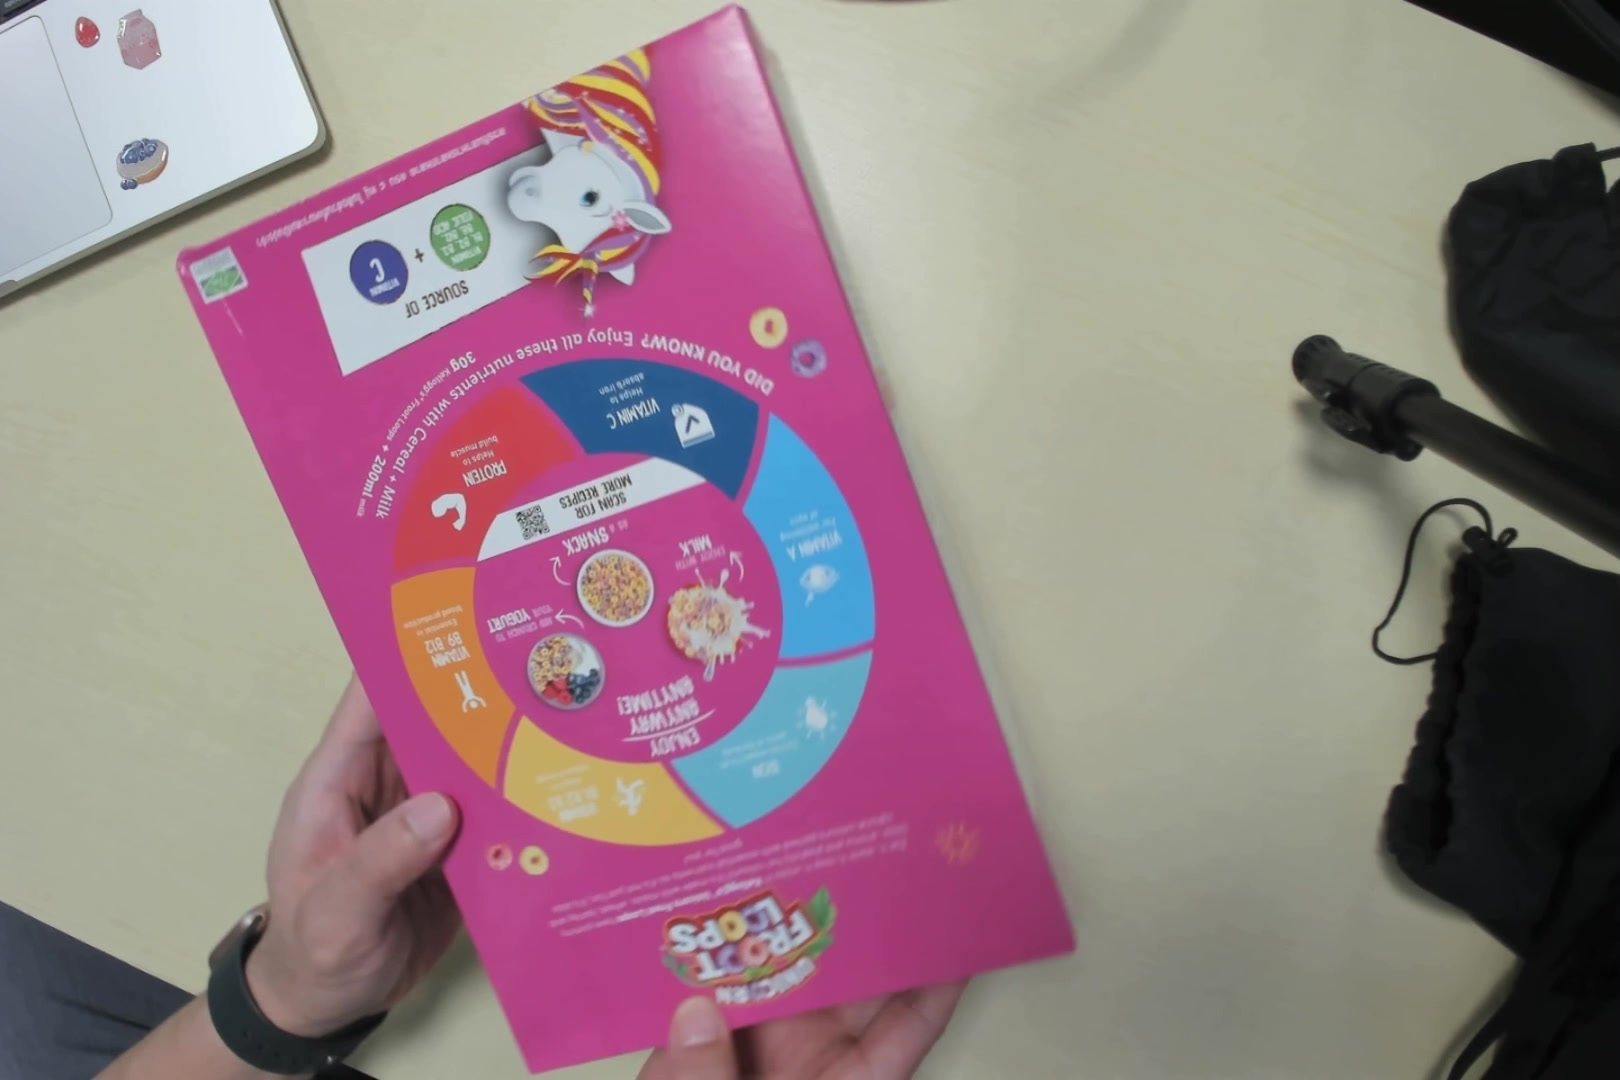BreakfastCereals_200-299g_Halal_NonHealthy: (180, 46, 994, 1021)
